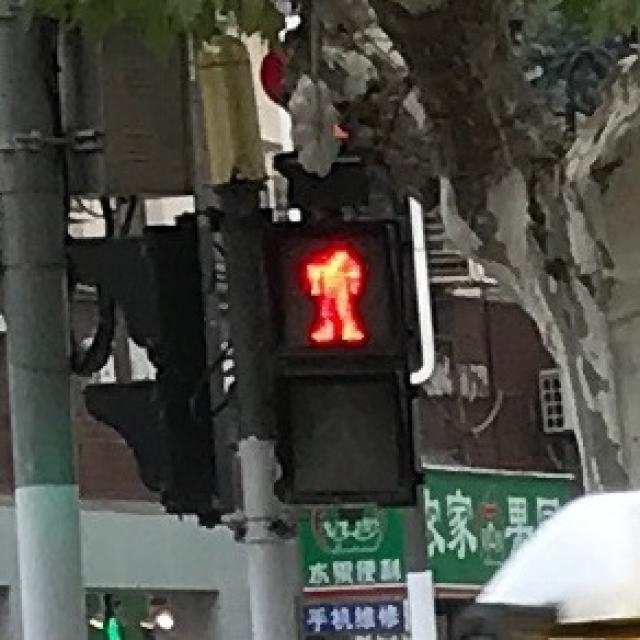red-crossing: (294, 232, 374, 350)
